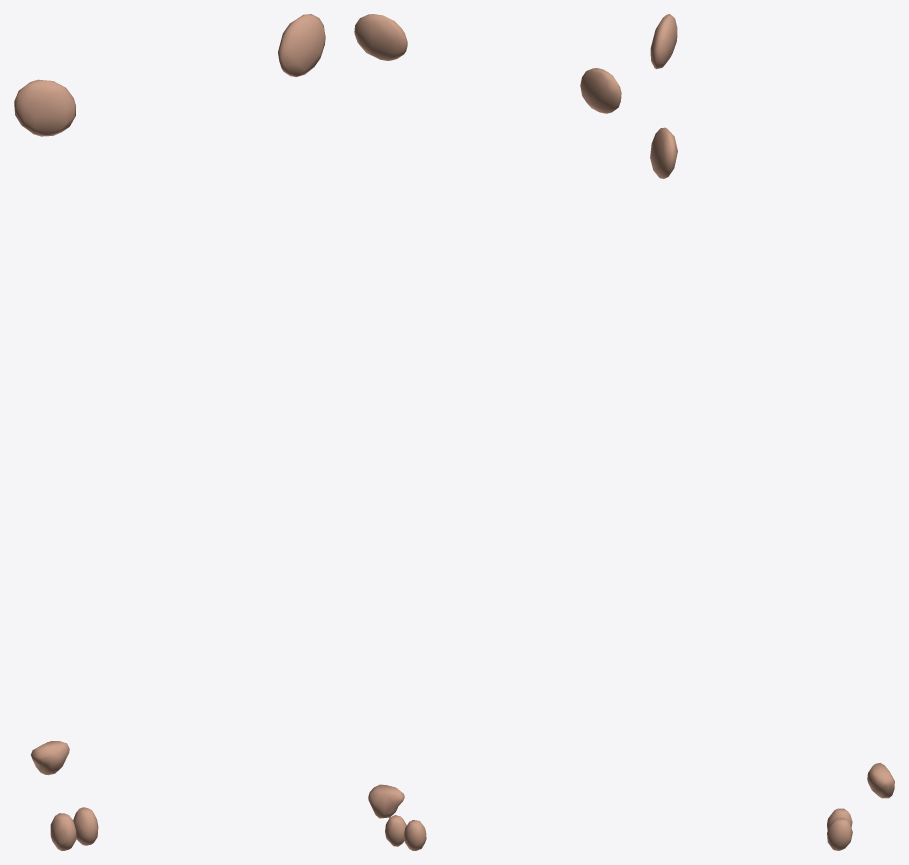
Rendered from pediatric_child_10y_male.reproductive.LOD2.glb.
3 renders of one model, left to right at view 1: azimuth 30°, elevation 25°; view 2: azimuth 150°, elevation 25°; view 3: azimuth 270°, elevation 25°, orthographic. The views are drawn at different scales.
Visible parts, largest first — view 1: PEDIATRIC.CHILD_10Y.MALE.REPRODUCTIVE.BREAST_ADIPOSE_TISSUE. (×2), PEDIATRIC.CHILD_10Y.MALE.REPRODUCTIVE.PROSTATE, PEDIATRIC.CHILD_10Y.MALE.REPRODUCTIVE.TESTIS.R, PEDIATRIC.CHILD_10Y.MALE.REPRODUCTIVE.TESTIS.L; view 2: PEDIATRIC.CHILD_10Y.MALE.REPRODUCTIVE.BREAST_ADIPOSE_TISSUE. (×2), PEDIATRIC.CHILD_10Y.MALE.REPRODUCTIVE.PROSTATE, PEDIATRIC.CHILD_10Y.MALE.REPRODUCTIVE.TESTIS.R, PEDIATRIC.CHILD_10Y.MALE.REPRODUCTIVE.TESTIS.L; view 3: PEDIATRIC.CHILD_10Y.MALE.REPRODUCTIVE.BREAST_ADIPOSE_TISSUE. (×2), PEDIATRIC.CHILD_10Y.MALE.REPRODUCTIVE.PROSTATE, PEDIATRIC.CHILD_10Y.MALE.REPRODUCTIVE.TESTIS.L.
Part boxes in pixels (<box>): PEDIATRIC.CHILD_10Y.MALE.REPRODUCTIVE.BREAST_ADIPOSE_TISSUE. (×2): <box>14,14,325,136</box>; PEDIATRIC.CHILD_10Y.MALE.REPRODUCTIVE.PROSTATE: <box>31,741,69,775</box>; PEDIATRIC.CHILD_10Y.MALE.REPRODUCTIVE.TESTIS.R: <box>50,813,76,850</box>; PEDIATRIC.CHILD_10Y.MALE.REPRODUCTIVE.TESTIS.L: <box>73,807,98,845</box>; PEDIATRIC.CHILD_10Y.MALE.REPRODUCTIVE.BREAST_ADIPOSE_TISSUE. (×2): <box>354,14,621,113</box>; PEDIATRIC.CHILD_10Y.MALE.REPRODUCTIVE.PROSTATE: <box>368,784,404,818</box>; PEDIATRIC.CHILD_10Y.MALE.REPRODUCTIVE.TESTIS.R: <box>403,820,426,850</box>; PEDIATRIC.CHILD_10Y.MALE.REPRODUCTIVE.TESTIS.L: <box>385,815,406,846</box>; PEDIATRIC.CHILD_10Y.MALE.REPRODUCTIVE.BREAST_ADIPOSE_TISSUE. (×2): <box>650,14,677,178</box>; PEDIATRIC.CHILD_10Y.MALE.REPRODUCTIVE.PROSTATE: <box>867,763,894,798</box>; PEDIATRIC.CHILD_10Y.MALE.REPRODUCTIVE.TESTIS.L: <box>827,818,852,850</box>.
Bounding box in the file's own units: 0.1493 × 0.3998 × 0.115.
